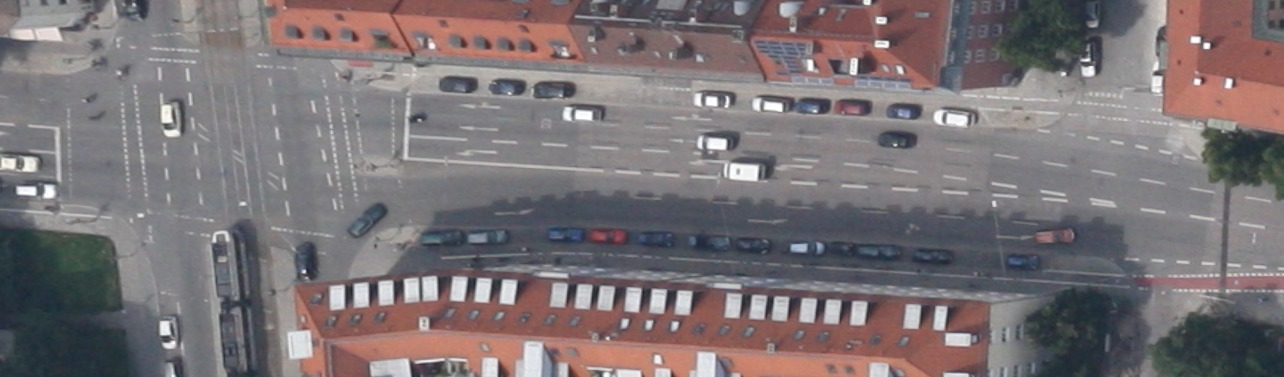car: (346, 200, 386, 238), (294, 241, 317, 281), (933, 107, 976, 128), (161, 98, 182, 137), (561, 103, 603, 122), (0, 153, 39, 172), (158, 314, 179, 349), (687, 234, 730, 251), (878, 130, 916, 149), (856, 244, 900, 260), (913, 247, 954, 264), (439, 75, 477, 93), (1034, 227, 1074, 244), (421, 230, 462, 246), (695, 133, 733, 150), (15, 182, 56, 197), (467, 229, 508, 244), (1079, 40, 1096, 76), (533, 81, 571, 97), (751, 96, 789, 112), (885, 102, 920, 119), (834, 99, 871, 115), (692, 91, 729, 107), (637, 231, 674, 247), (735, 236, 769, 253), (488, 78, 523, 94), (591, 228, 627, 243), (1007, 254, 1038, 270), (790, 241, 825, 255), (794, 98, 826, 113), (829, 239, 855, 257), (548, 228, 583, 241), (1084, 1, 1099, 27)
